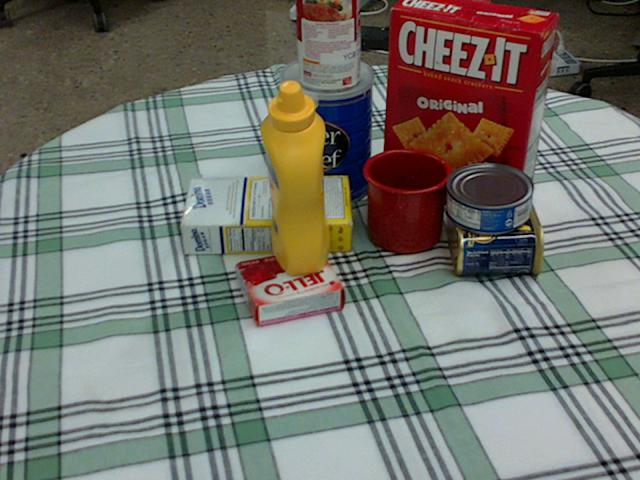cracker_box: (382, 0, 560, 216)
gelatin_box: (238, 248, 345, 326)
master_chef_can: (279, 55, 373, 207)
mug: (363, 147, 454, 253)
mustard_bottle: (260, 79, 328, 274)
potted_meat_can: (447, 184, 542, 271)
sugar_box: (179, 174, 351, 254)
tomato_soup_can: (296, 0, 362, 91)
tuna_fish_can: (446, 164, 533, 233)
